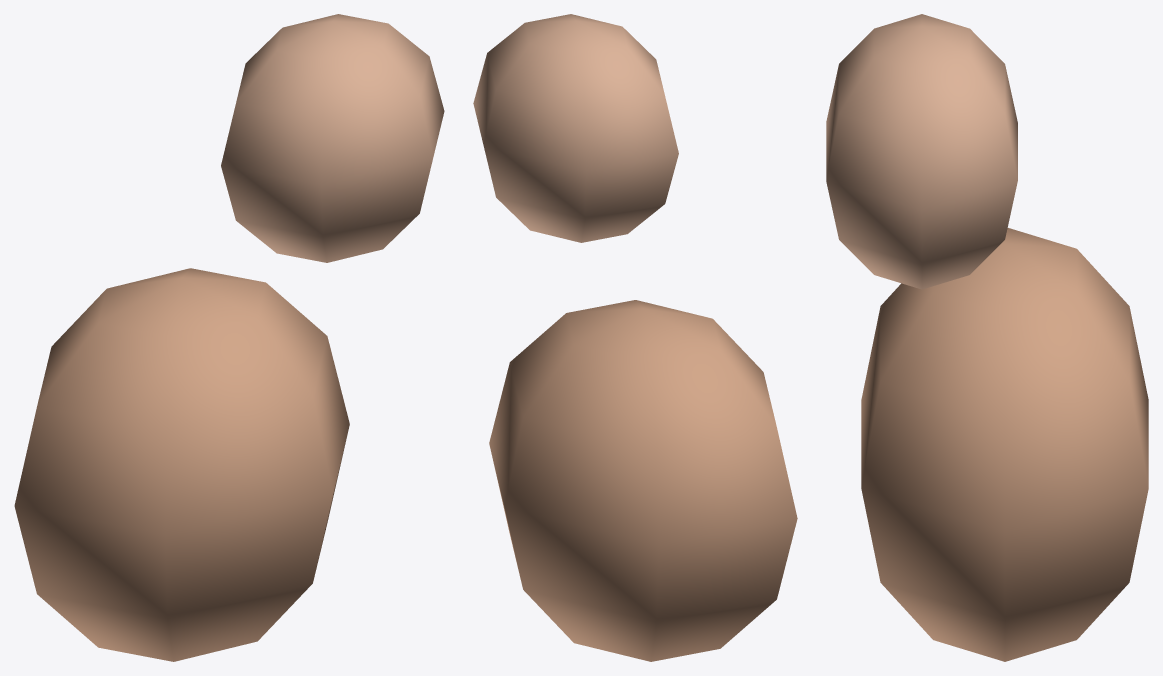
Rendered from env-ww-rocks.glb.
3 renders of one model, left to right at view 1: azimuth 30°, elevation 25°; view 2: azimuth 150°, elevation 25°; view 3: azimuth 270°, elevation 25°, orthographic. The views are drawn at different scales.
Size of the model in its own units: 1.75 by 2.7 by 1.17.
